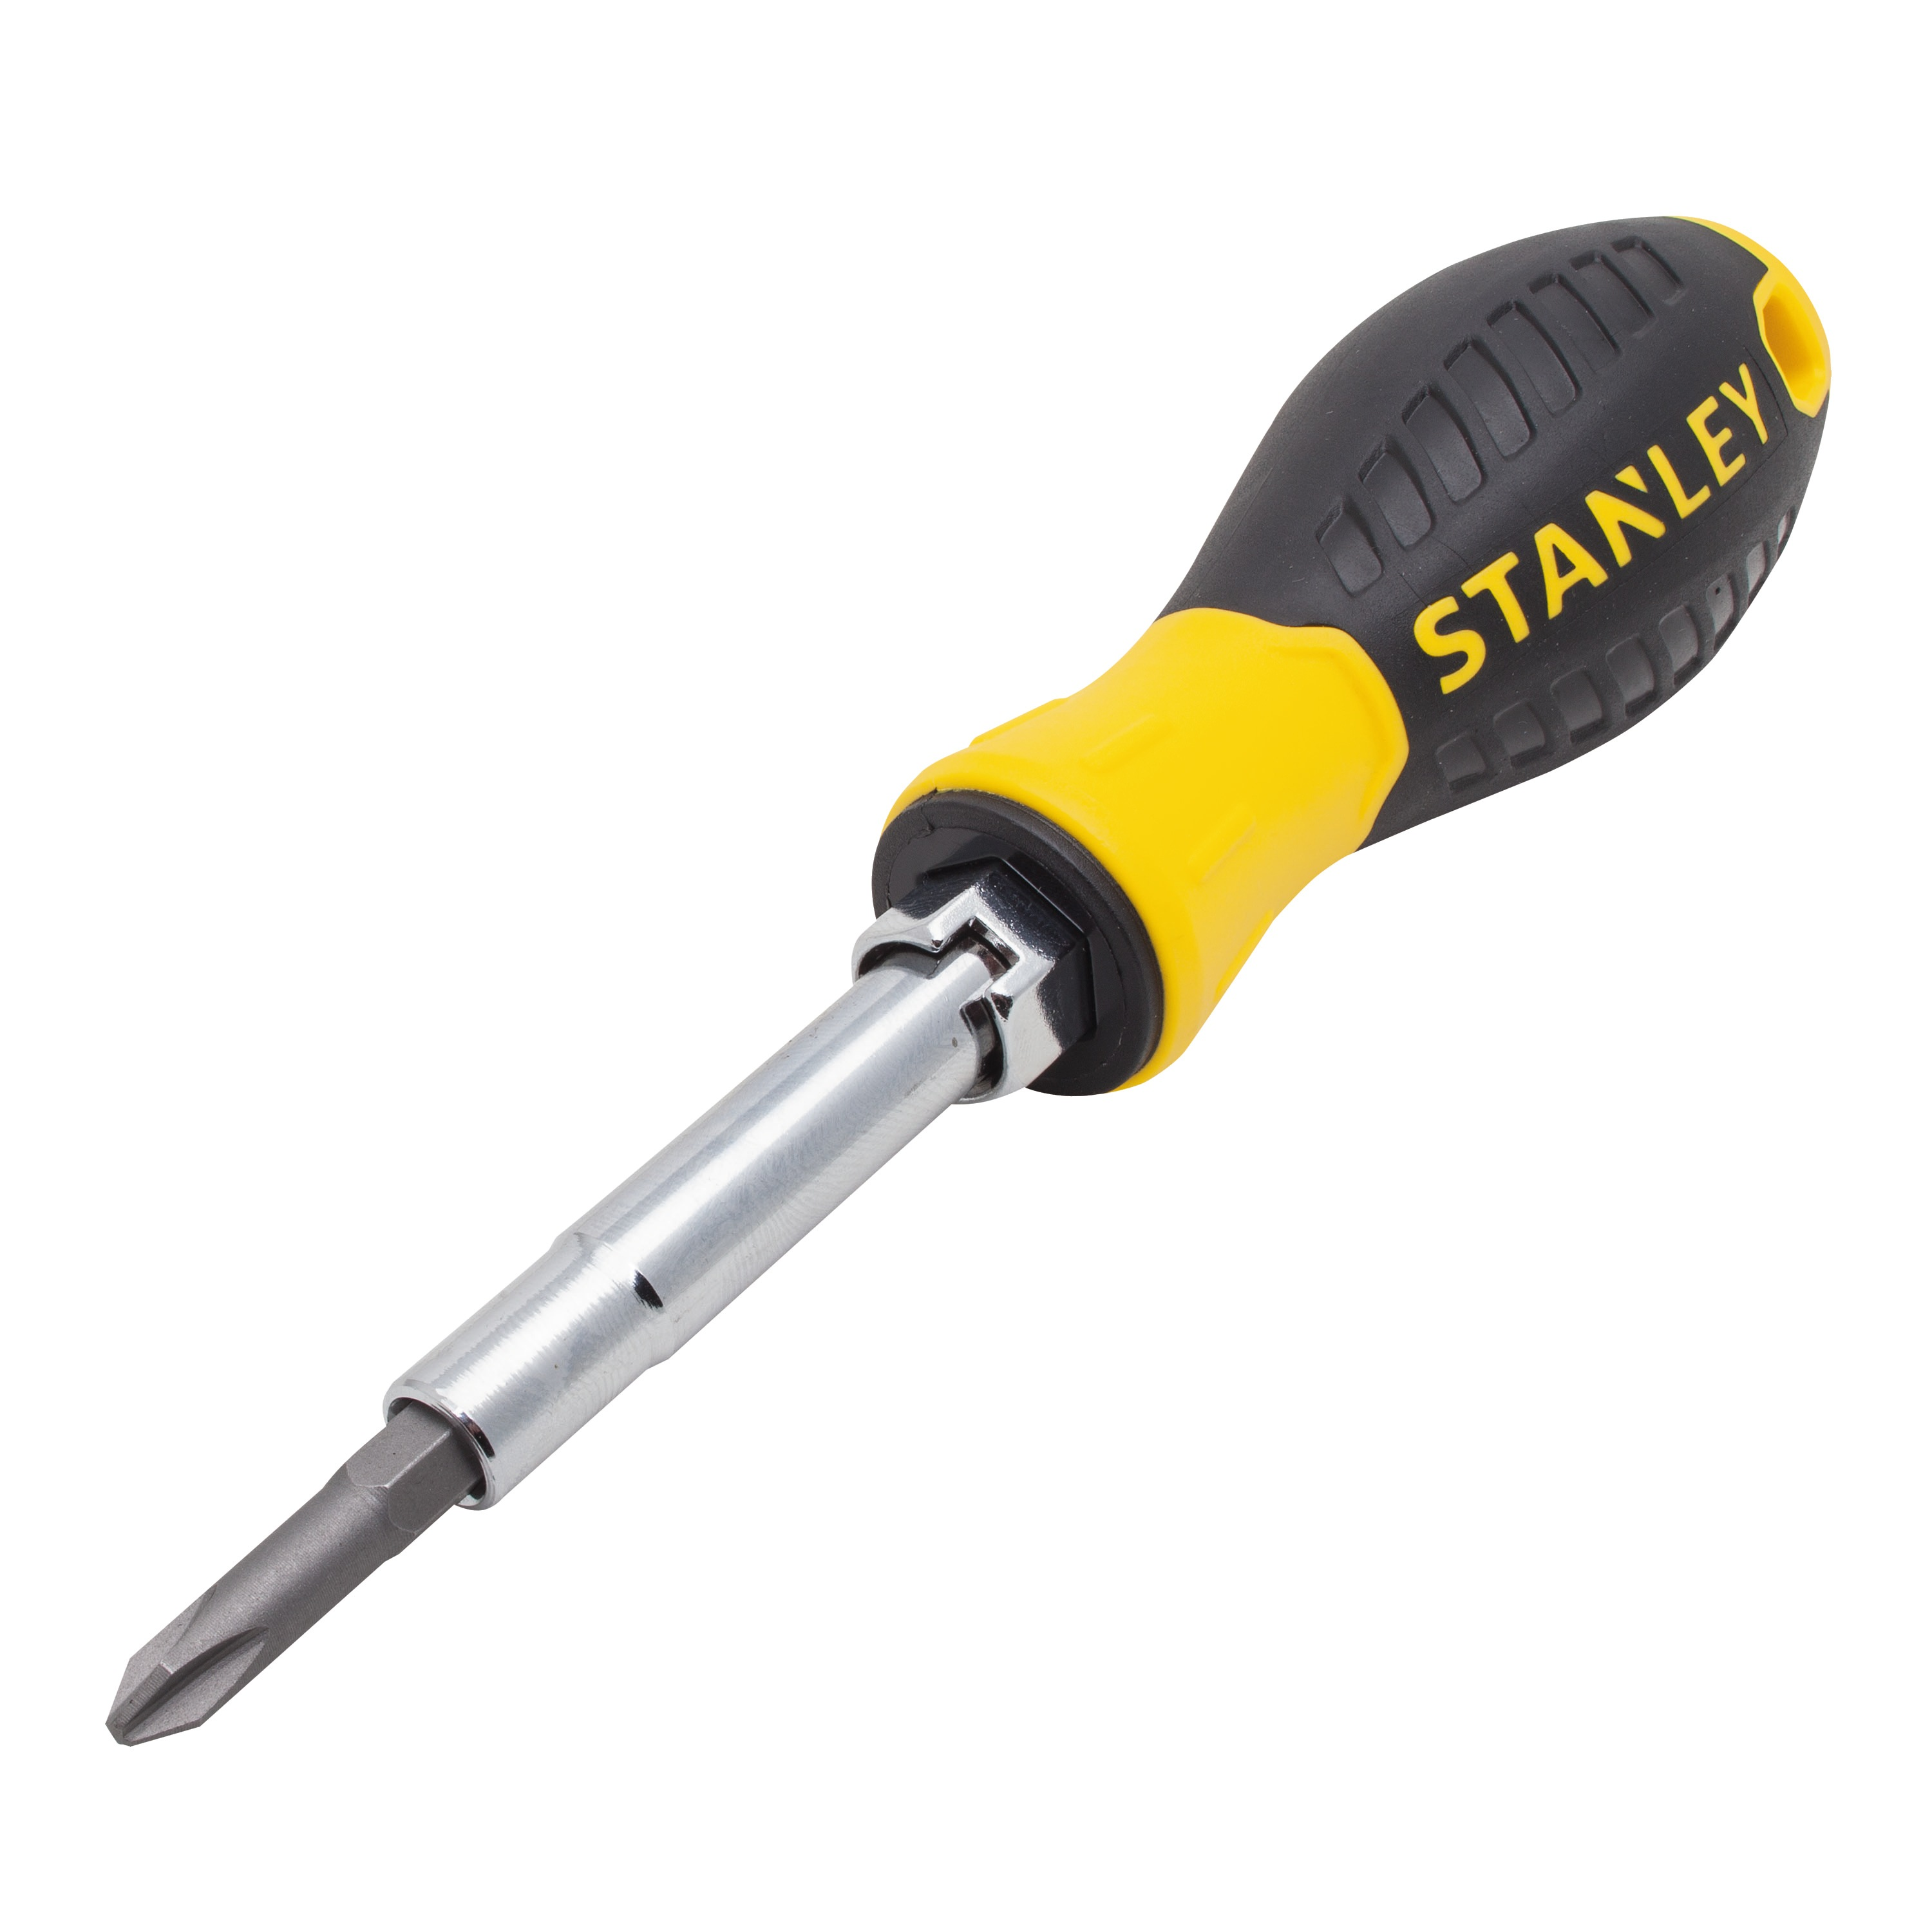screwdriver: (104, 218, 1835, 1750)
